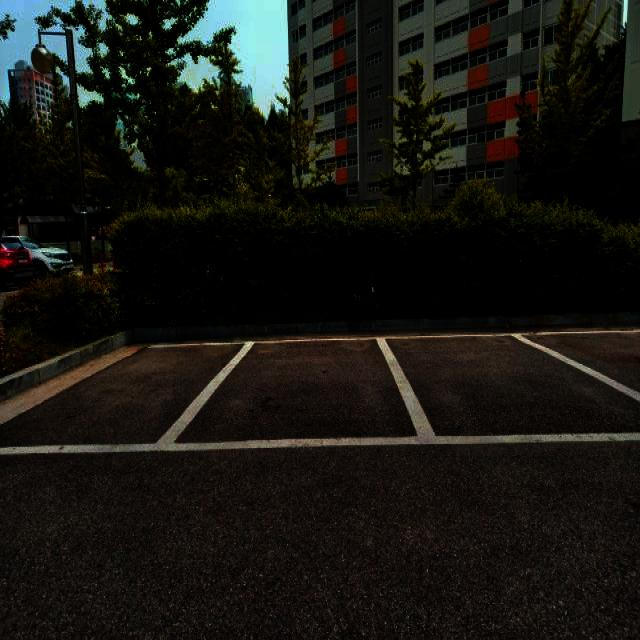empty: (166, 341, 421, 452), (383, 337, 640, 447), (4, 342, 252, 454), (522, 330, 640, 398)
